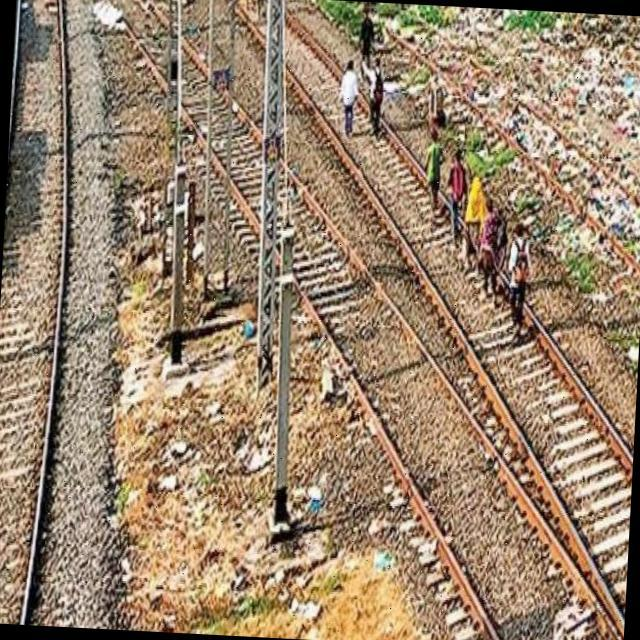person: (502, 204, 548, 344), (476, 183, 516, 304), (464, 162, 495, 269), (365, 51, 397, 138), (331, 58, 363, 135), (448, 138, 470, 244), (421, 126, 447, 212), (354, 3, 381, 78)
